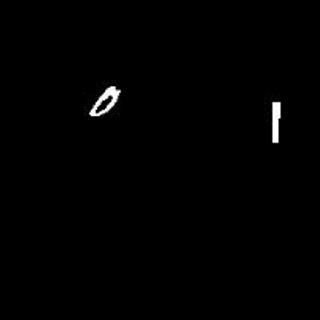one: (269, 96, 281, 147)
zero: (91, 85, 127, 121)
